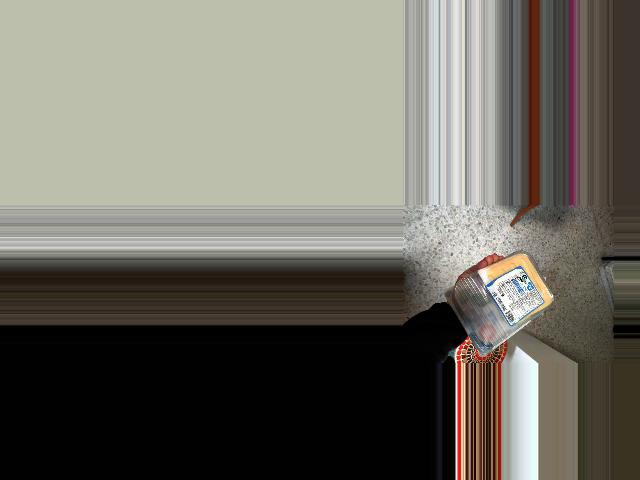cheese: (459, 264, 558, 347)
